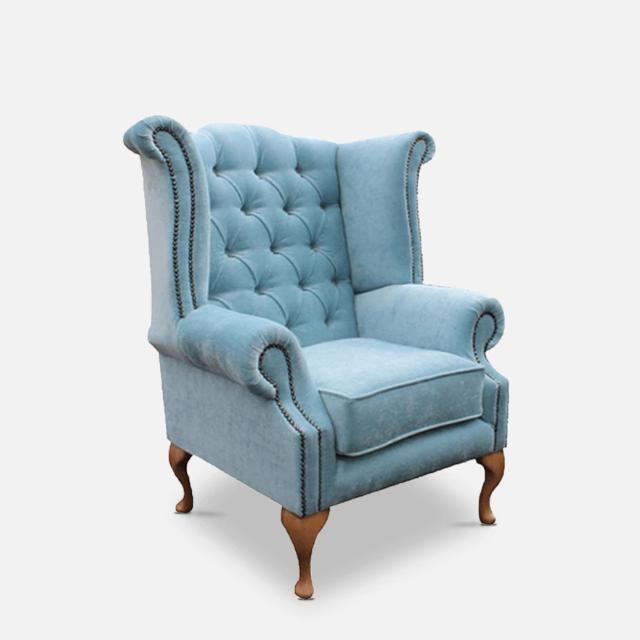obstacle: (110, 97, 542, 617)
